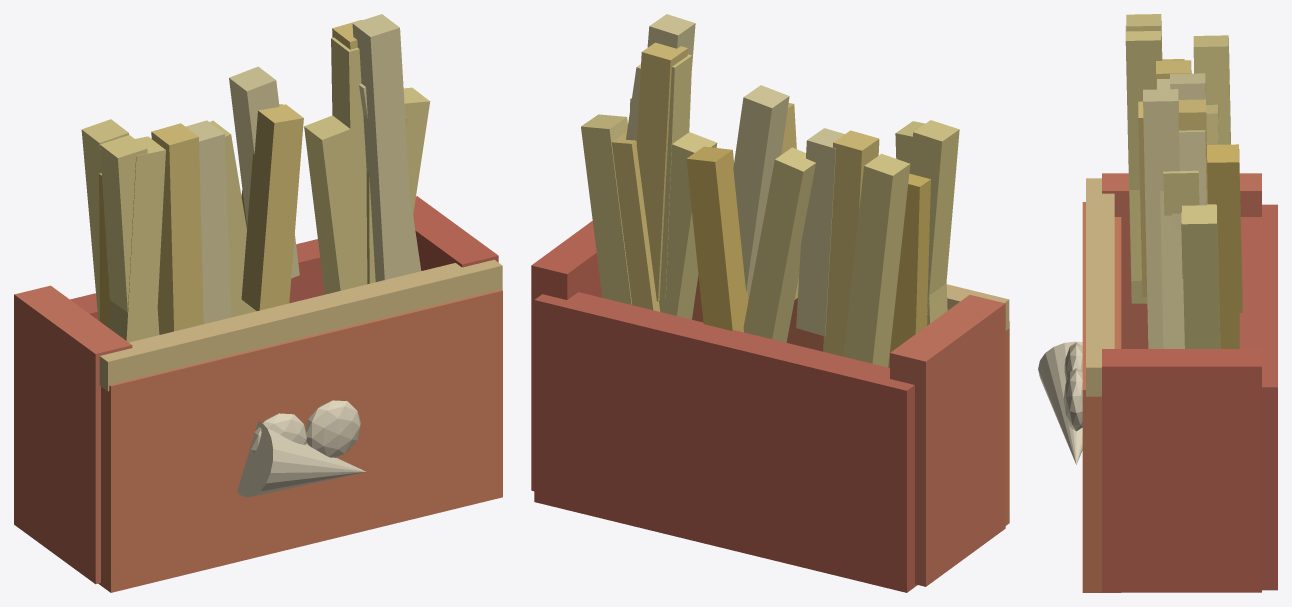
The model's file is fries.glb.
3 views of the same model, side by side, from view 1: azimuth 30°, elevation 25°; view 2: azimuth 150°, elevation 25°; view 3: azimuth 270°, elevation 25° (orthographic). The views are drawn at different scales.
Visible parts, largest first — view 1: obj_0001, obj_0002, obj_0005, obj_0014, obj_0009, obj_0006, obj_0017, obj_0021, obj_0015, obj_0010, obj_0027, obj_0008 (+10 smaller); view 2: obj_0000, obj_0002, obj_0012, obj_0020, obj_0024, obj_0008, obj_0022, obj_0006, obj_0016, obj_0015, obj_0010, obj_0017 (+9 smaller); view 3: obj_0003, obj_0000, obj_0014, obj_0001, obj_0005, obj_0020, obj_0016, obj_0002, obj_0021, obj_0023, obj_0012, obj_0027 (+10 smaller).
Boxes of the visible parts, x1,y1,x2,y2 form: obj_0001: (98,289,502,592); obj_0002: (14,285,132,584); obj_0005: (99,259,502,391); obj_0014: (352,14,414,281); obj_0009: (241,104,303,310); obj_0006: (151,123,203,334); obj_0017: (304,115,367,294); obj_0021: (108,136,165,342); obj_0015: (186,120,231,323); obj_0010: (100,135,159,335); obj_0027: (237,421,366,497); obj_0008: (229,66,299,278); obj_0000: (534,292,917,592); obj_0002: (890,295,1005,586); obj_0012: (843,153,910,367); obj_0020: (686,146,748,332); obj_0024: (743,147,815,342); obj_0008: (733,85,789,299); obj_0022: (636,42,687,301); obj_0006: (823,130,879,356); obj_0016: (581,114,631,304); obj_0015: (796,128,844,336); obj_0010: (909,120,959,317); obj_0017: (659,132,717,319); obj_0003: (1102,349,1261,592); obj_0000: (1239,204,1277,590); obj_0014: (1143,89,1179,348); obj_0001: (1082,202,1121,592); obj_0005: (1086,178,1114,396); obj_0020: (1207,144,1242,348); obj_0016: (1182,205,1220,348); obj_0002: (1102,173,1261,348); obj_0021: (1125,25,1161,303); obj_0023: (1160,191,1184,348); obj_0012: (1193,35,1230,144); obj_0027: (1038,341,1082,464).
Size of the model in its own units: 1.43 by 1.58 by 0.75.
